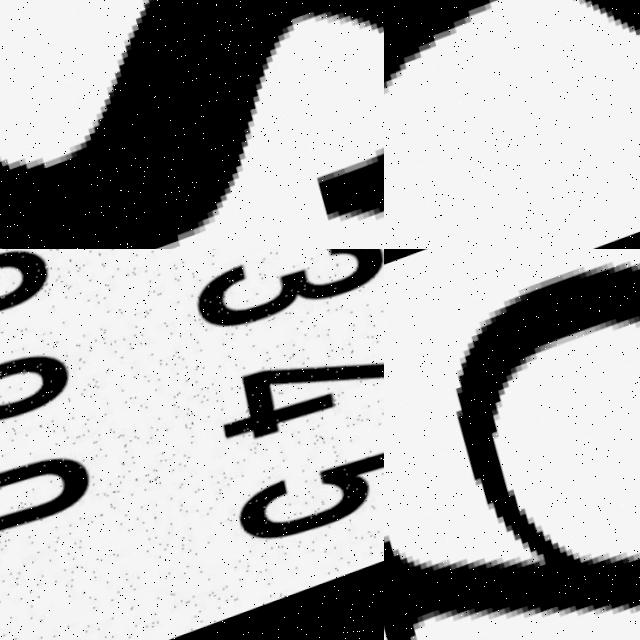0: (0, 419, 126, 594)
3: (171, 249, 384, 369)
4: (192, 318, 384, 475)
5: (222, 426, 384, 581)
8: (0, 249, 89, 376)
9: (0, 319, 108, 482)
Q: (384, 249, 640, 640)
S: (0, 0, 384, 249)
X: (384, 0, 640, 249)
